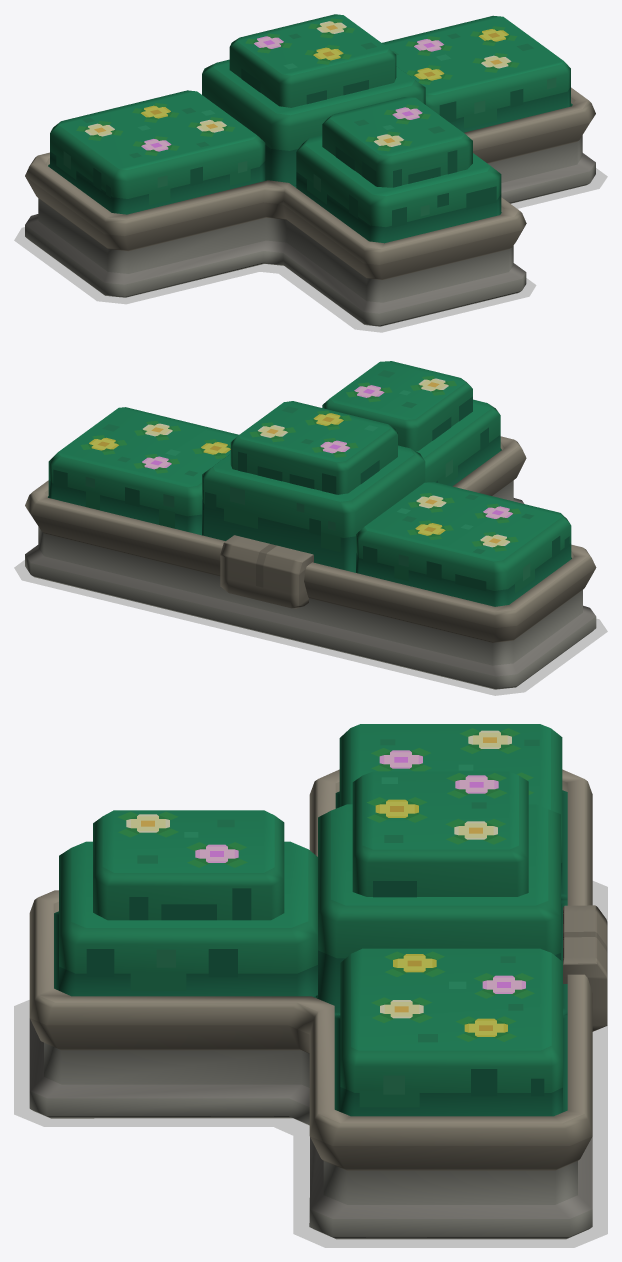
The model's file is MG_flower_T_small.fbx.
3 views of the same model, one above another, from view 1: azimuth 30°, elevation 25°; view 2: azimuth 150°, elevation 25°; view 3: azimuth 270°, elevation 25° (orthographic). The views are drawn at different scales.
Parts seen in each view (by area): view 1: model, ground; view 2: model, ground; view 3: model, ground.
Boxes of the visible parts, left/top/right/bottom form: model: left=25, top=14, right=595, bottom=326; ground: left=14, top=168, right=607, bottom=332; model: left=25, top=361, right=596, bottom=689; ground: left=14, top=560, right=607, bottom=695; model: left=29, top=724, right=607, bottom=1239; ground: left=14, top=881, right=607, bottom=1247.
Bounding box in the file's own units: 14.32 × 4.48 × 9.59.
